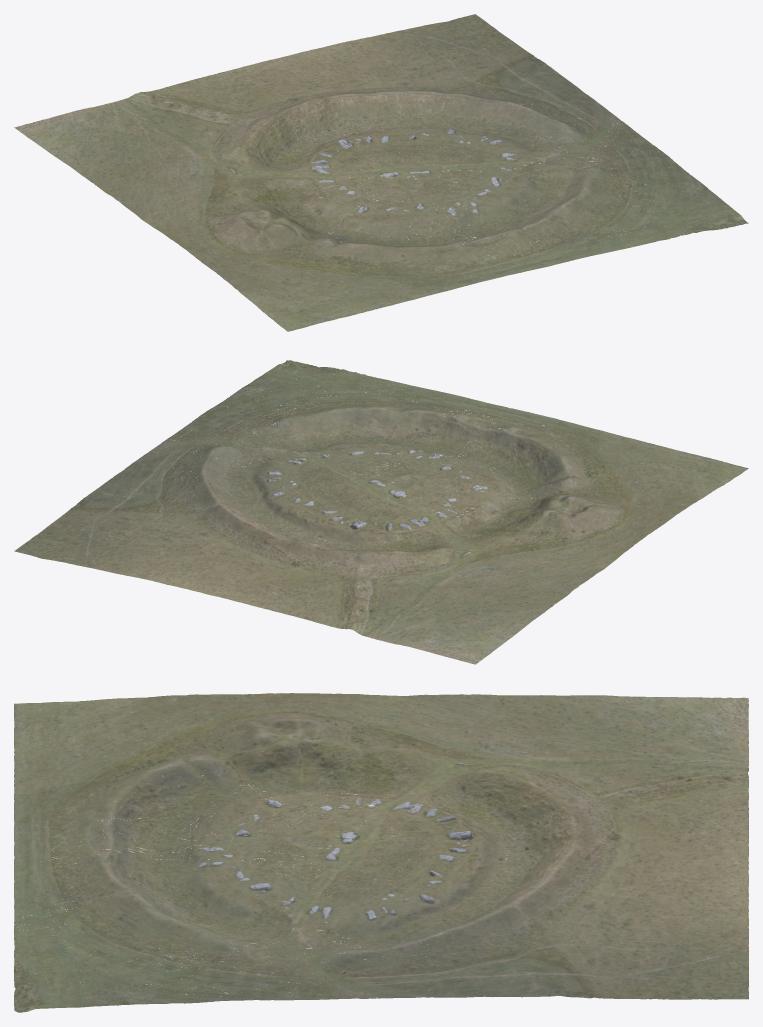
The picture shows the model from 3 angles, top to bottom: view 1: azimuth 30°, elevation 25°; view 2: azimuth 150°, elevation 25°; view 3: azimuth 270°, elevation 25°; orthographic projection. The views are drawn at different scales.
Parts seen in each view (by area): view 1: Object_3, Object_4, Object_2, Object_5; view 2: Object_2, Object_4, Object_3, Object_5; view 3: Object_4, Object_2, Object_3, Object_5.
Part boxes in pixels (x1,y1,x2,y2): Object_3: (56,14,675,317); Object_4: (86,23,707,317); Object_2: (14,25,560,331); Object_5: (76,14,748,317); Object_2: (35,425,748,664); Object_4: (31,385,730,616); Object_3: (15,383,740,660); Object_5: (14,360,729,613); Object_4: (62,694,739,1004); Object_2: (14,693,748,999); Object_3: (14,694,748,999); Object_5: (14,694,748,1012).
Size of the model in its own units: 116 by 7.39 by 119.
Materials: 2 (1 with a texture image).
